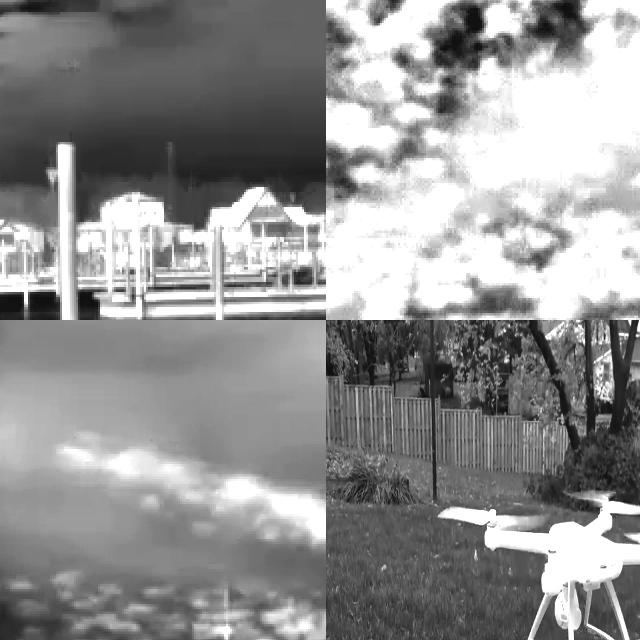drone: (447, 481, 640, 640)
